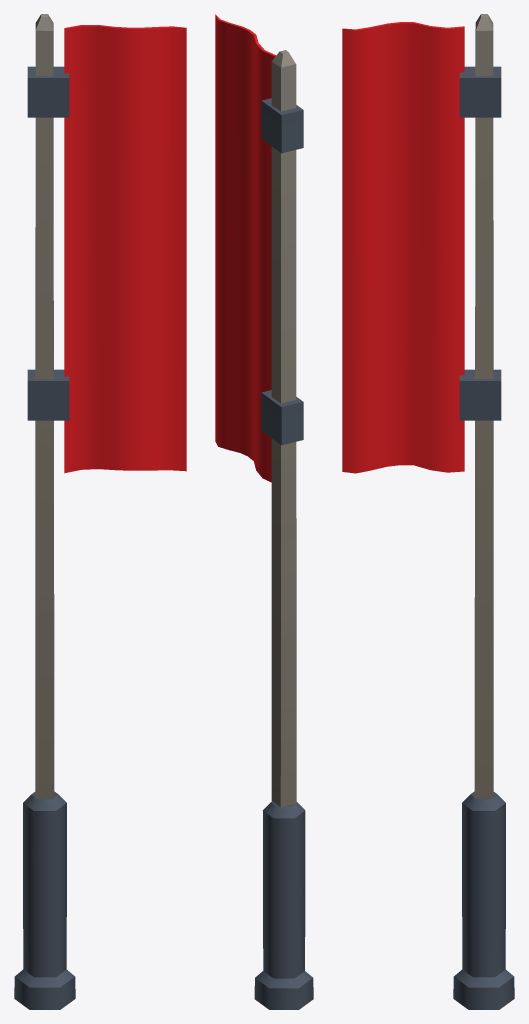
The model's file is FlagRace_F.fbx.
3 views of the same model, side by side, from view 1: azimuth 90°, elevation 25°; view 2: azimuth 210°, elevation 25°; view 3: azimuth 270°, elevation 25° (orthographic). The views are drawn at different scales.
Parts seen in each view (by area): view 1: FlagRace_F; view 2: FlagRace_F; view 3: FlagRace_F.
Part boxes in pixels (x1=…): FlagRace_F: x1=14, y1=14, x2=186, y2=1009; FlagRace_F: x1=215, y1=14, x2=313, y2=1009; FlagRace_F: x1=342, y1=14, x2=514, y2=1009.
Bounding box in the file's own units: 62.3 × 1269 × 202.
